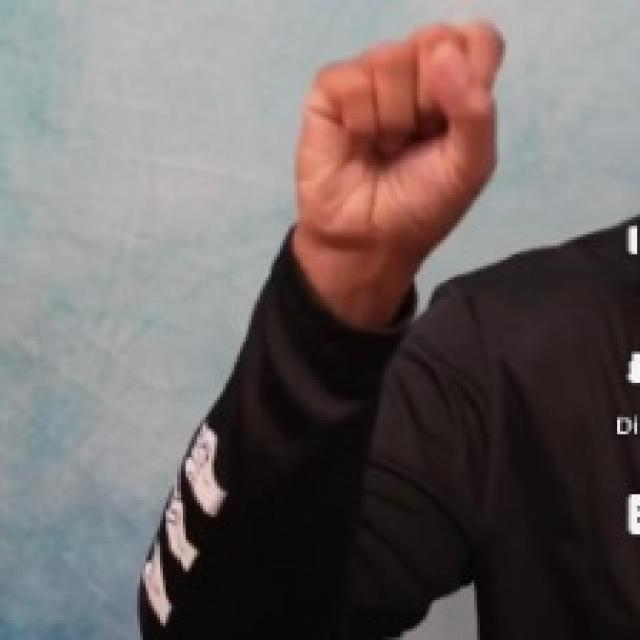yes: (290, 8, 514, 242)
